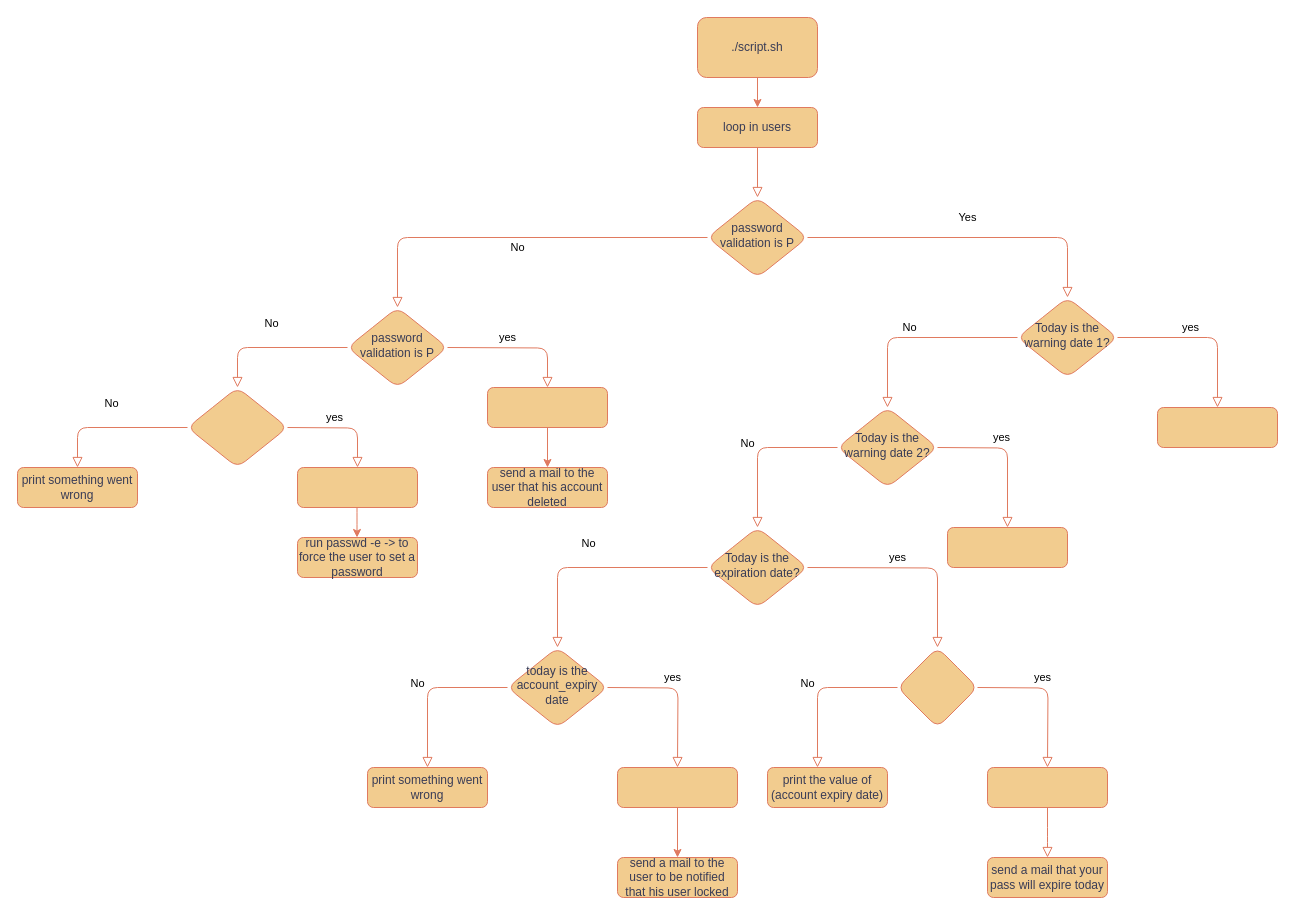
Some shapes in this 1295 by 916 pixel diagram are drawn without their labels. The centre of each missing label's shape, as x and y in pixels:
account expiry date is equal to never?: (x=937, y=687)
change the status of the user from P to L (Locked): (x=677, y=787)
password validation is NP: (x=237, y=427)
run deleting_user(): (x=547, y=407)
send a mail to the user that his account doesn't have a user: (x=357, y=487)
send warning mail 1 to the user: (x=1217, y=427)
send warning mail 2 to the user: (x=1007, y=547)
set the uesr expiry date to the value of (expiration_date): (x=1047, y=787)
